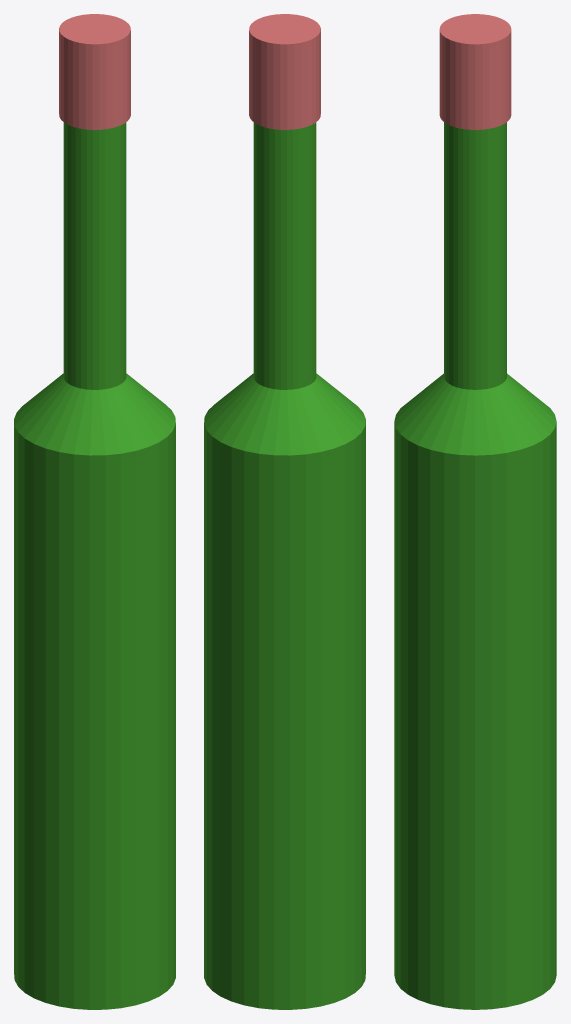
Rendered from bottle1.obj.
3 renders of one model, left to right at view 1: azimuth 30°, elevation 25°; view 2: azimuth 150°, elevation 25°; view 3: azimuth 270°, elevation 25°, orthographic.
Parts seen in each view (by area): view 1: Cylinder, Cylinder.001; view 2: Cylinder, Cylinder.001; view 3: Cylinder, Cylinder.001.
Part boxes in pixels (bbox=[...]): Cylinder: bbox=[14, 122, 175, 1009]; Cylinder.001: bbox=[59, 14, 130, 129]; Cylinder: bbox=[204, 122, 365, 1009]; Cylinder.001: bbox=[249, 14, 320, 129]; Cylinder: bbox=[394, 122, 556, 1009]; Cylinder.001: bbox=[439, 14, 511, 129].
Size of the model in its own units: 2 by 12.88 by 2.
2 materials, 2 textured.
